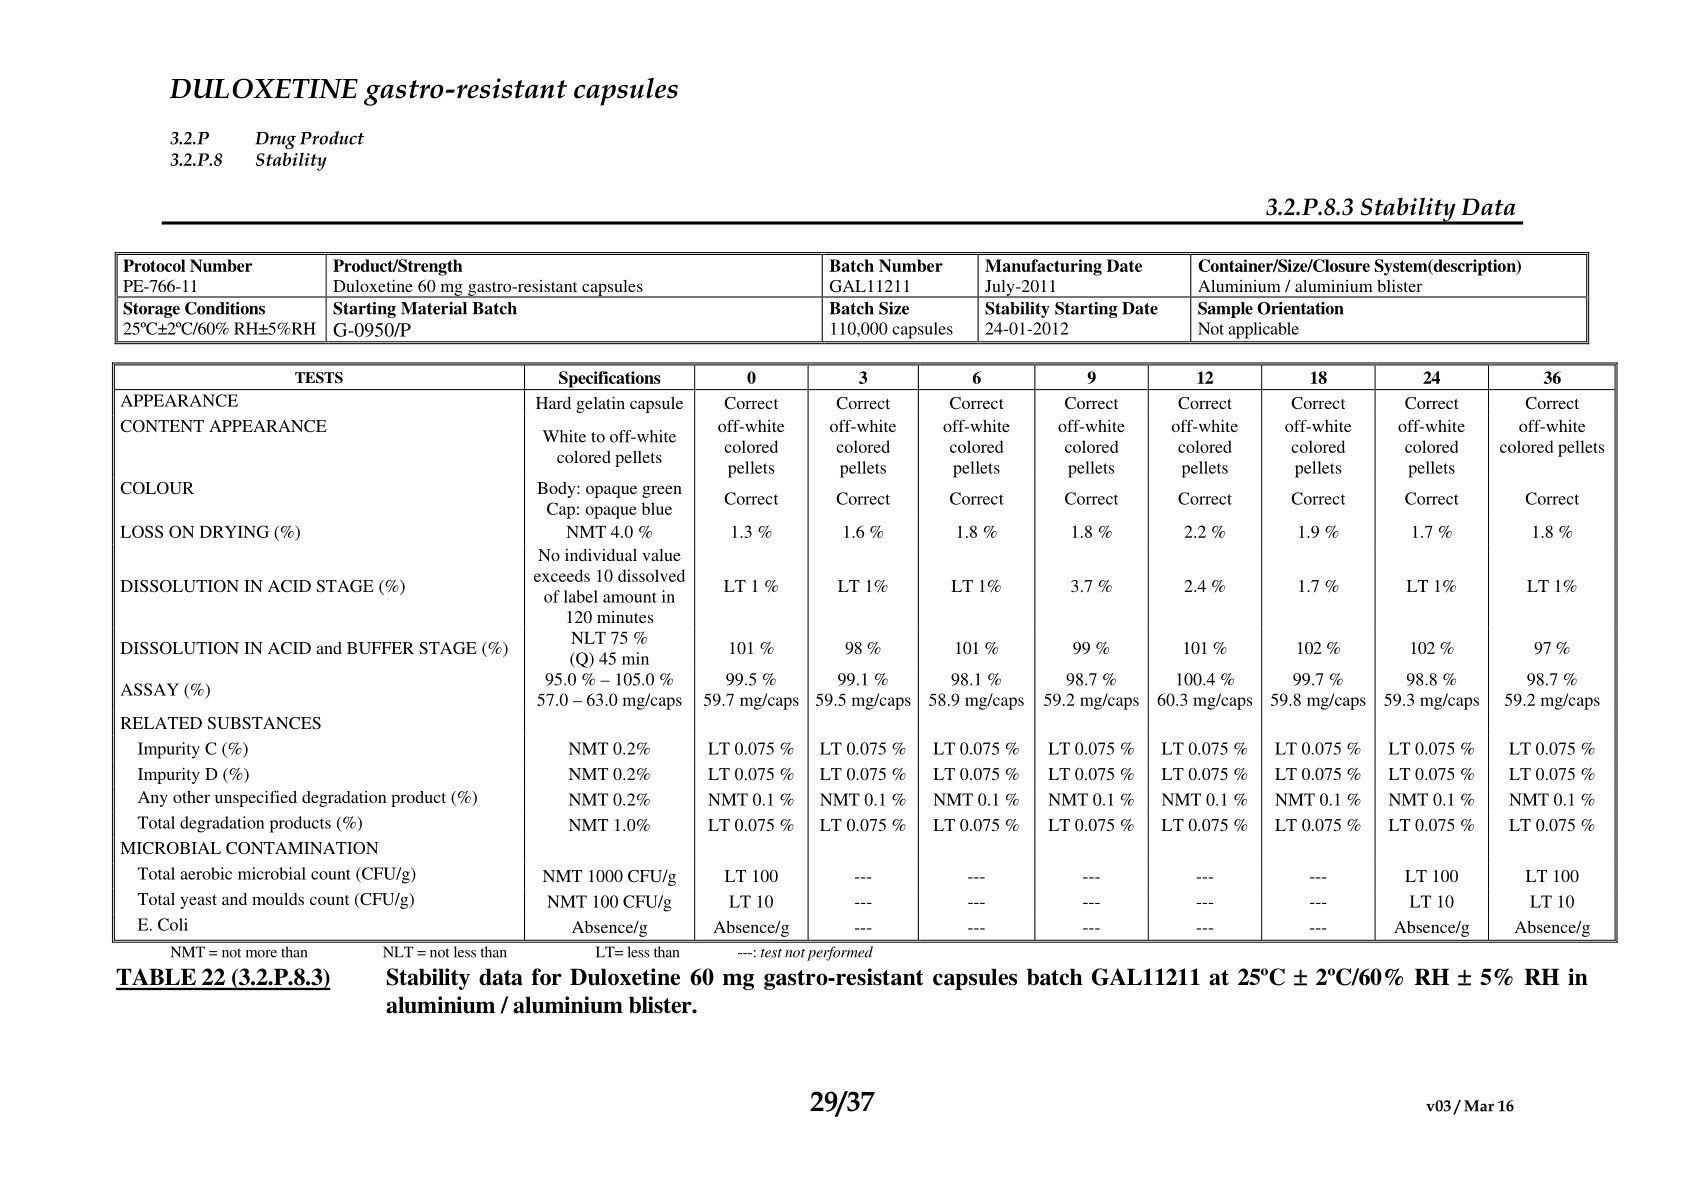full_lined: (110, 362, 1618, 944), (113, 253, 1590, 345)
